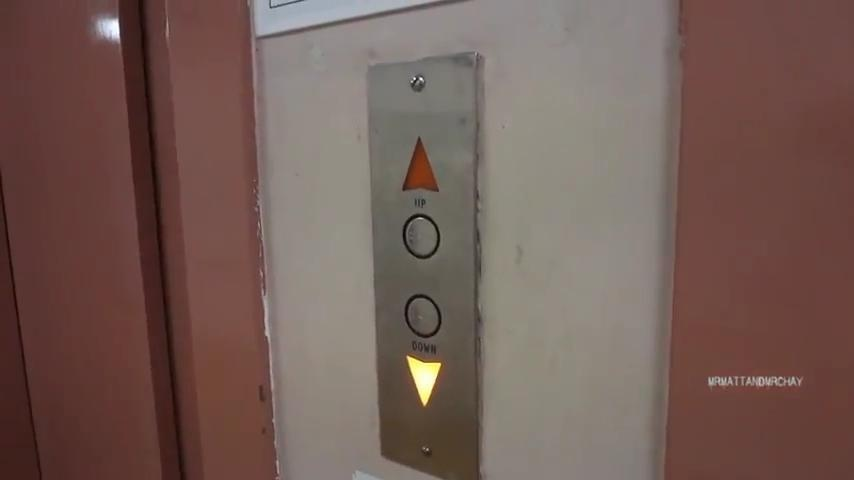empty: (401, 213, 443, 260), (403, 292, 443, 340)
